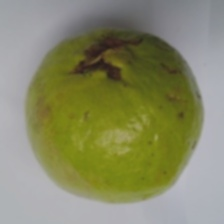guava: (6, 30, 180, 200)
